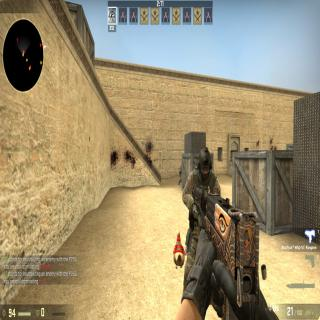CT-Head: (196, 145, 212, 183)
